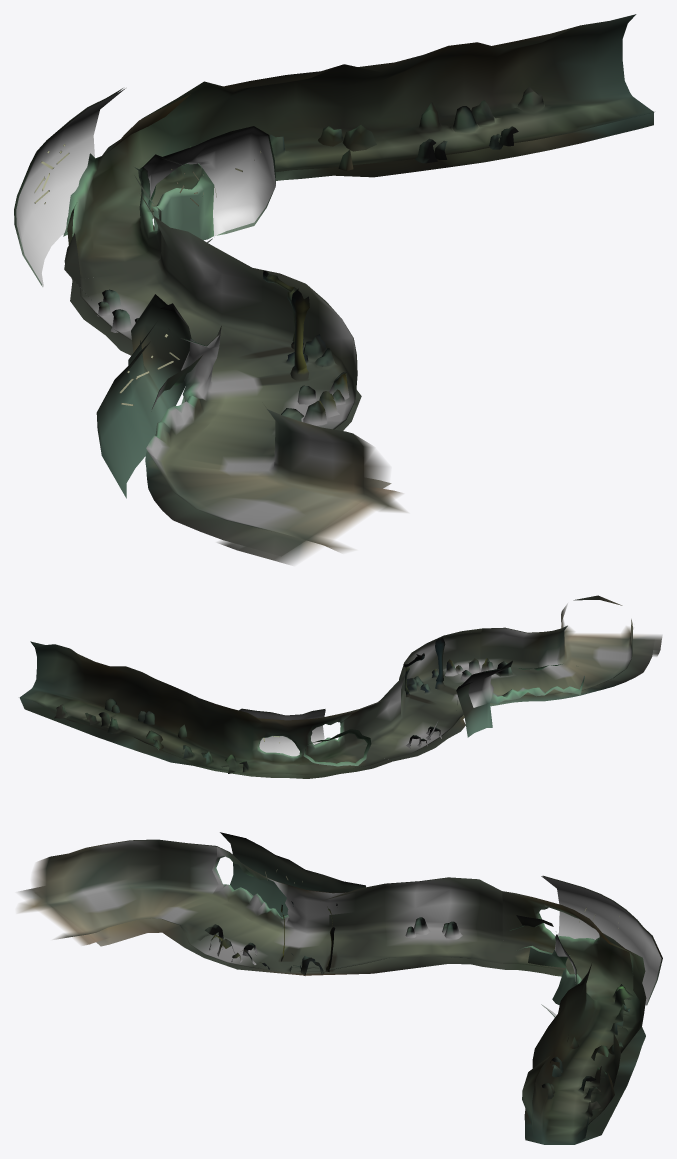
File: 04Hall.gltf
3 renders of one model, top to bottom at view 1: azimuth 30°, elevation 25°; view 2: azimuth 150°, elevation 25°; view 3: azimuth 270°, elevation 25°, orthographic. The views are drawn at different scales.
Parts seen in each view (by area): view 1: stg040_o08_Mesh_0000, stg040_o08_Mesh_0010, stg040_k08_Mesh_0000, stg040_o15_Mesh_0004, stg040_a08_Mesh_0010, stg040_a08_Mesh_0001, stg040_o15_Mesh_0001, stg040_a15_Mesh_0000, stg040_o15_Mesh_0000; view 2: stg040_o08_Mesh_0000, stg040_o08_Mesh_0010, stg040_k08_Mesh_0000, stg040_a08_Mesh_0010, stg040_o15_Mesh_0004, stg040_o15_Mesh_0001, stg040_a08_Mesh_0001, stg040_a15_Mesh_0000, stg040_o15_Mesh_0000; view 3: stg040_o08_Mesh_0000, stg040_o08_Mesh_0010, stg040_k08_Mesh_0000, stg040_a08_Mesh_0010, stg040_o15_Mesh_0004, stg040_a08_Mesh_0001, stg040_o15_Mesh_0001, stg040_a15_Mesh_0000.
Part boxes in pixels (bbox=[...]): stg040_o08_Mesh_0000: bbox=[63, 14, 654, 532]; stg040_o08_Mesh_0010: bbox=[64, 96, 653, 544]; stg040_k08_Mesh_0000: bbox=[16, 88, 355, 531]; stg040_o15_Mesh_0004: bbox=[14, 88, 518, 498]; stg040_a08_Mesh_0010: bbox=[77, 93, 653, 552]; stg040_a08_Mesh_0001: bbox=[217, 486, 403, 565]; stg040_o15_Mesh_0001: bbox=[165, 86, 543, 420]; stg040_a15_Mesh_0000: bbox=[162, 102, 549, 436]; stg040_o15_Mesh_0000: bbox=[263, 270, 309, 380]; stg040_o08_Mesh_0000: bbox=[20, 595, 632, 767]; stg040_o08_Mesh_0010: bbox=[20, 641, 652, 778]; stg040_k08_Mesh_0000: bbox=[240, 628, 631, 756]; stg040_a08_Mesh_0010: bbox=[20, 604, 633, 774]; stg040_o15_Mesh_0004: bbox=[98, 660, 512, 745]; stg040_o15_Mesh_0001: bbox=[54, 658, 493, 773]; stg040_a08_Mesh_0001: bbox=[565, 633, 662, 656]; stg040_a15_Mesh_0000: bbox=[64, 668, 517, 772]; stg040_o15_Mesh_0000: bbox=[403, 637, 445, 697]; stg040_o08_Mesh_0000: bbox=[48, 839, 646, 1144]; stg040_o08_Mesh_0010: bbox=[72, 888, 645, 1144]; stg040_k08_Mesh_0000: bbox=[67, 840, 661, 1016]; stg040_a08_Mesh_0010: bbox=[18, 855, 637, 1144]; stg040_o15_Mesh_0004: bbox=[205, 832, 662, 1099]; stg040_a08_Mesh_0001: bbox=[18, 886, 111, 945]; stg040_o15_Mesh_0001: bbox=[210, 934, 633, 1117]; stg040_a15_Mesh_0000: bbox=[196, 933, 636, 1119].
Bounding box in the file's own units: 103 × 16.37 × 105.
